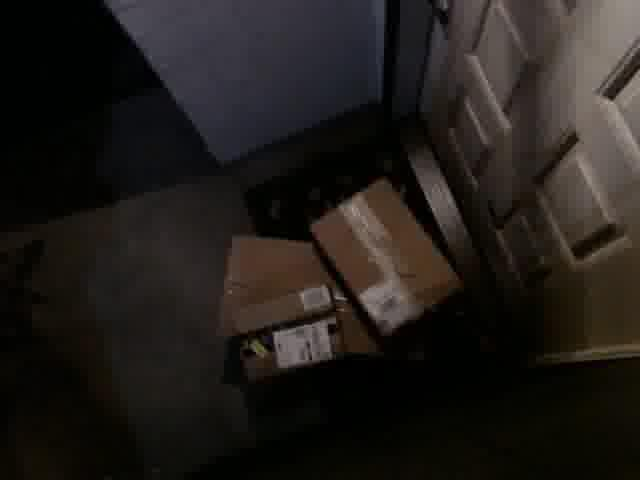box: (306, 174, 469, 350), (219, 230, 397, 369), (228, 282, 349, 385)
